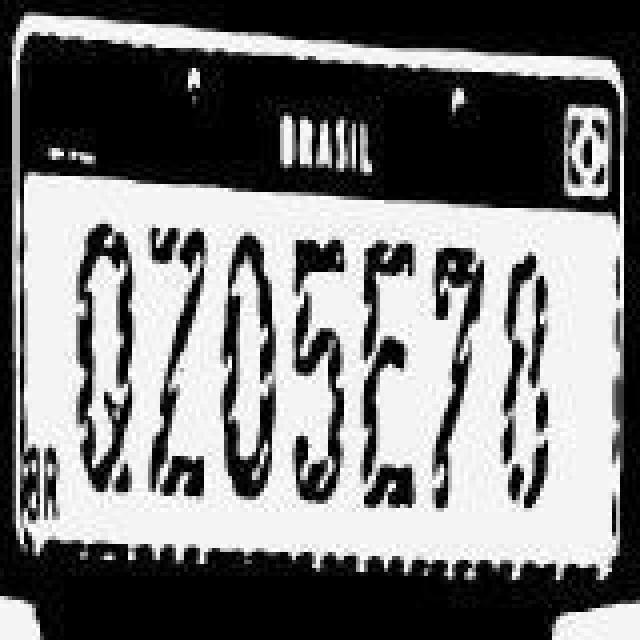5: (290, 230, 350, 506)
7: (430, 246, 482, 514)
8: (498, 248, 550, 520)
E: (356, 238, 420, 514)
O: (218, 228, 278, 500)
Q: (72, 222, 136, 498)
Z: (142, 222, 210, 498)
